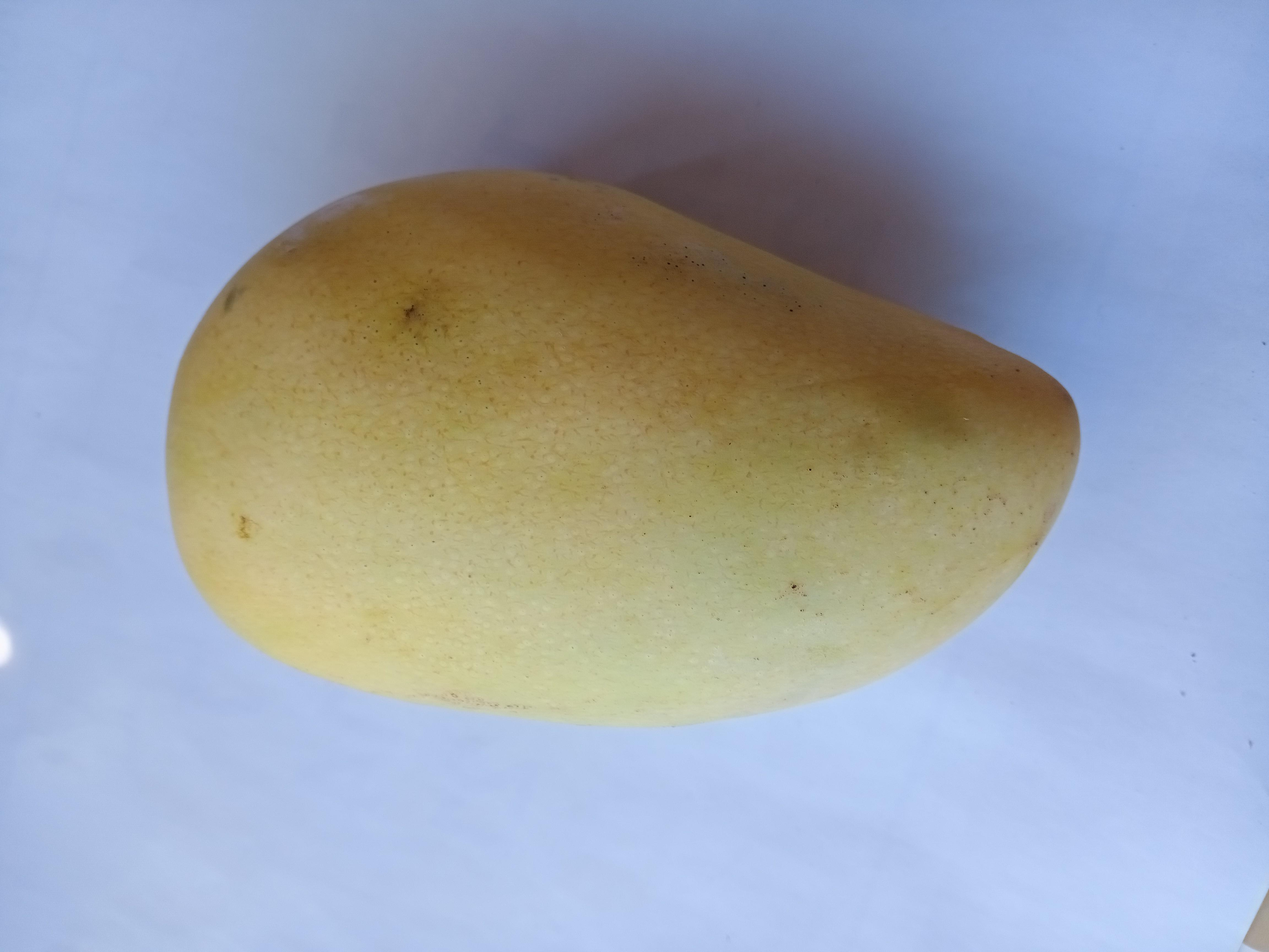Mango Ripe: (113, 132, 1115, 741)
